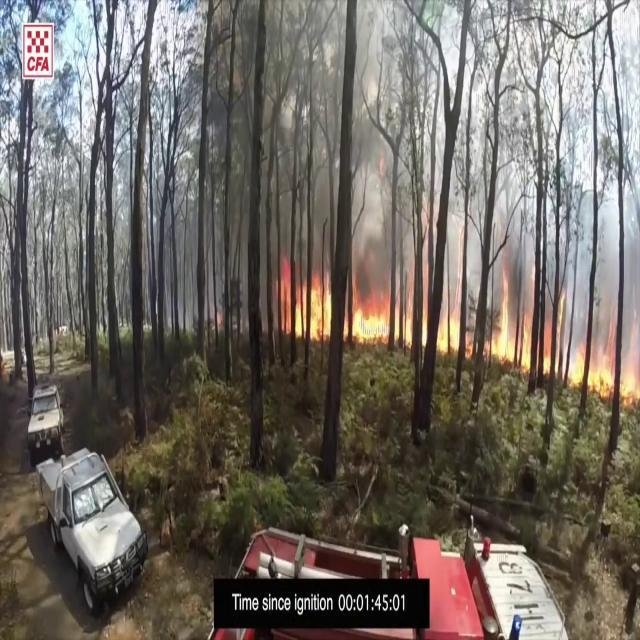Fire: (291, 258, 405, 348), (570, 318, 640, 412), (490, 268, 536, 376), (350, 286, 400, 348)
Smoke: (196, 2, 402, 302)
